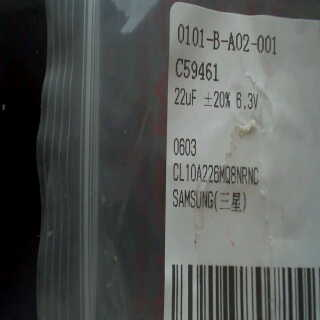22uF: (173, 83, 203, 109)
